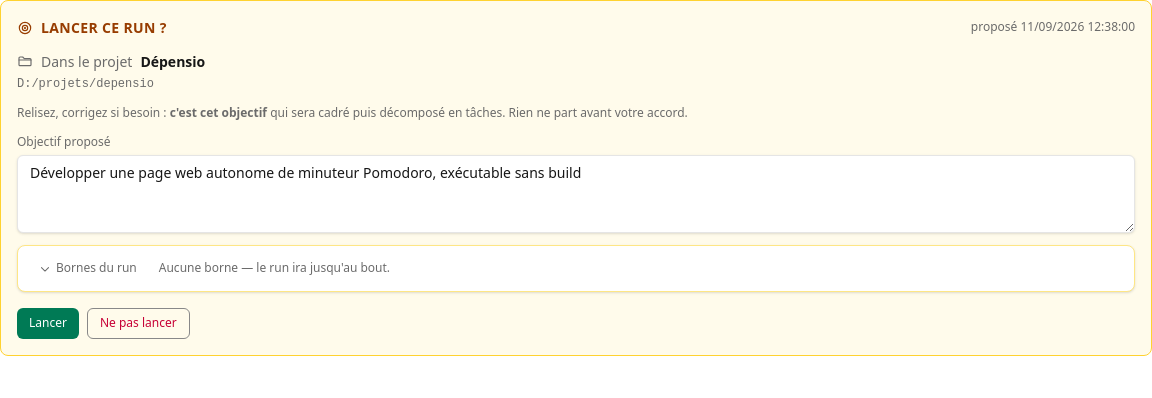
② le geste — accepter, refuser, amender › ferme le lancement sur un objectif vidé, et le dit
This screenshot has width=1152, height=398.
Clear the text box labelled "Objectif proposé" at (576, 194), box [17,155,1135,233]
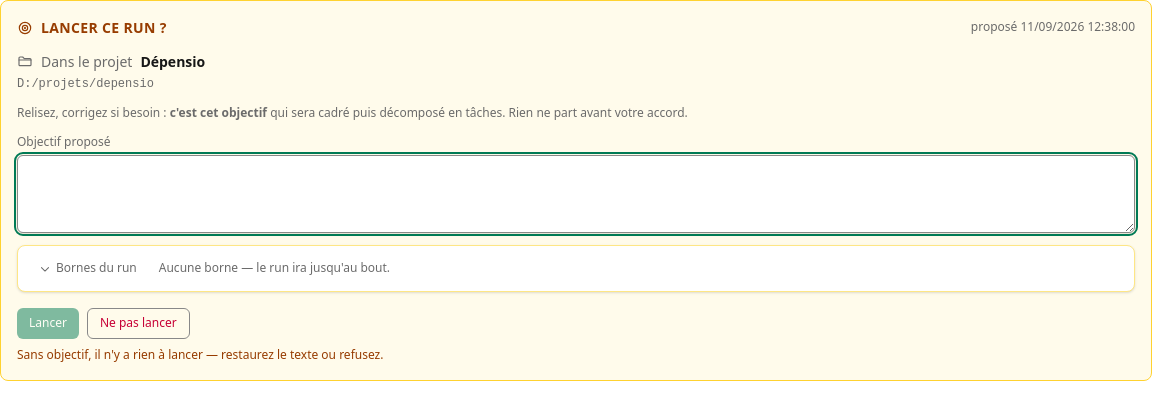
Now the button "Lancer" is disabled, box [17,308,79,339]
Now the text "il n'y a rien à lancer" is shown, box [17,346,383,363]
